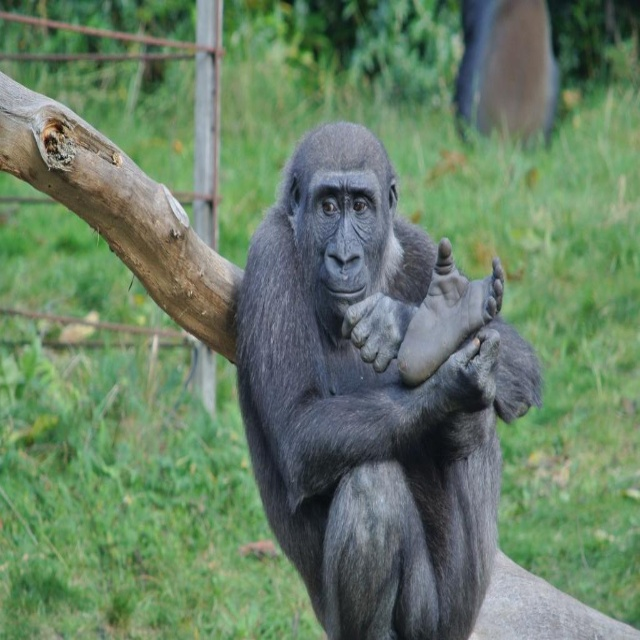Monkey: (206, 121, 552, 640)
